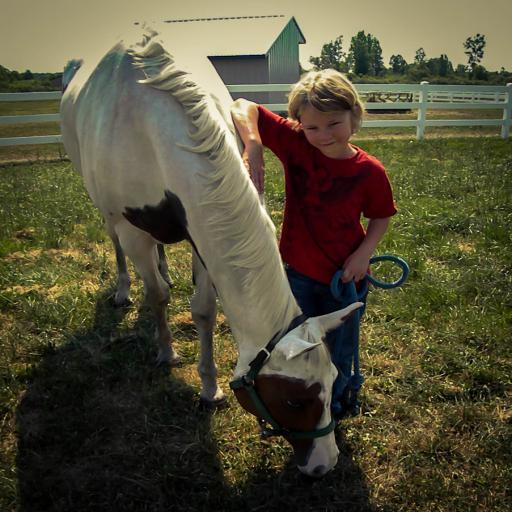horse: (58, 21, 365, 480)
